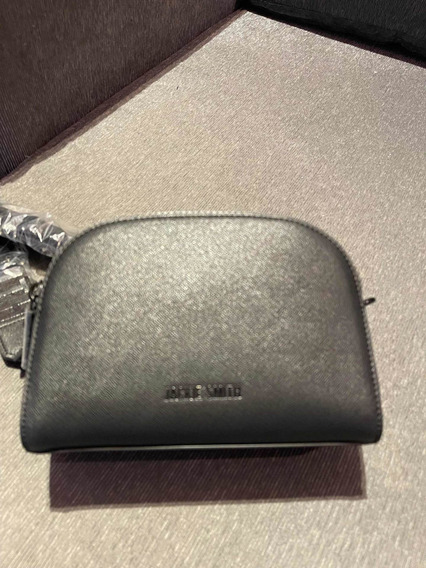cartera: (15, 207, 391, 452)
